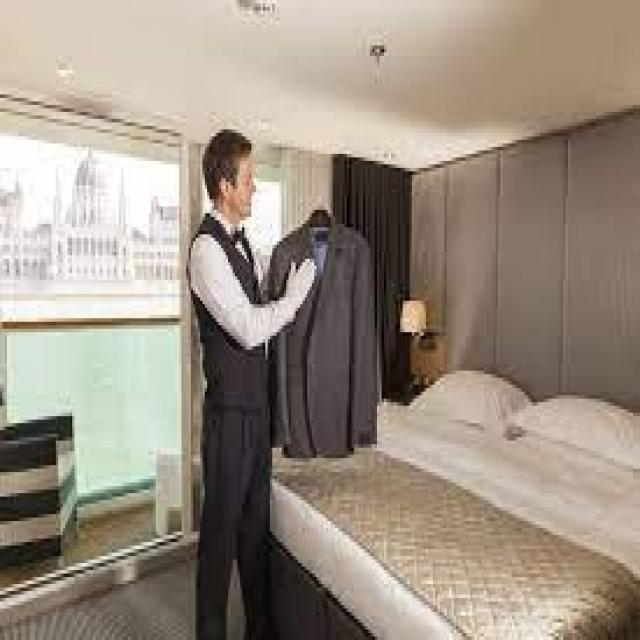walking: (172, 114, 318, 635)
